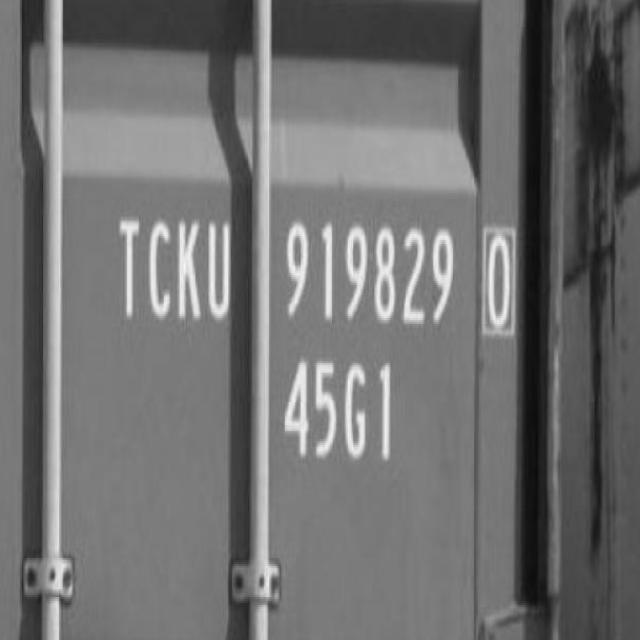dv: (477, 211, 522, 345)
owner: (107, 196, 238, 331)
serial: (278, 206, 454, 342)
size: (277, 352, 398, 477)
